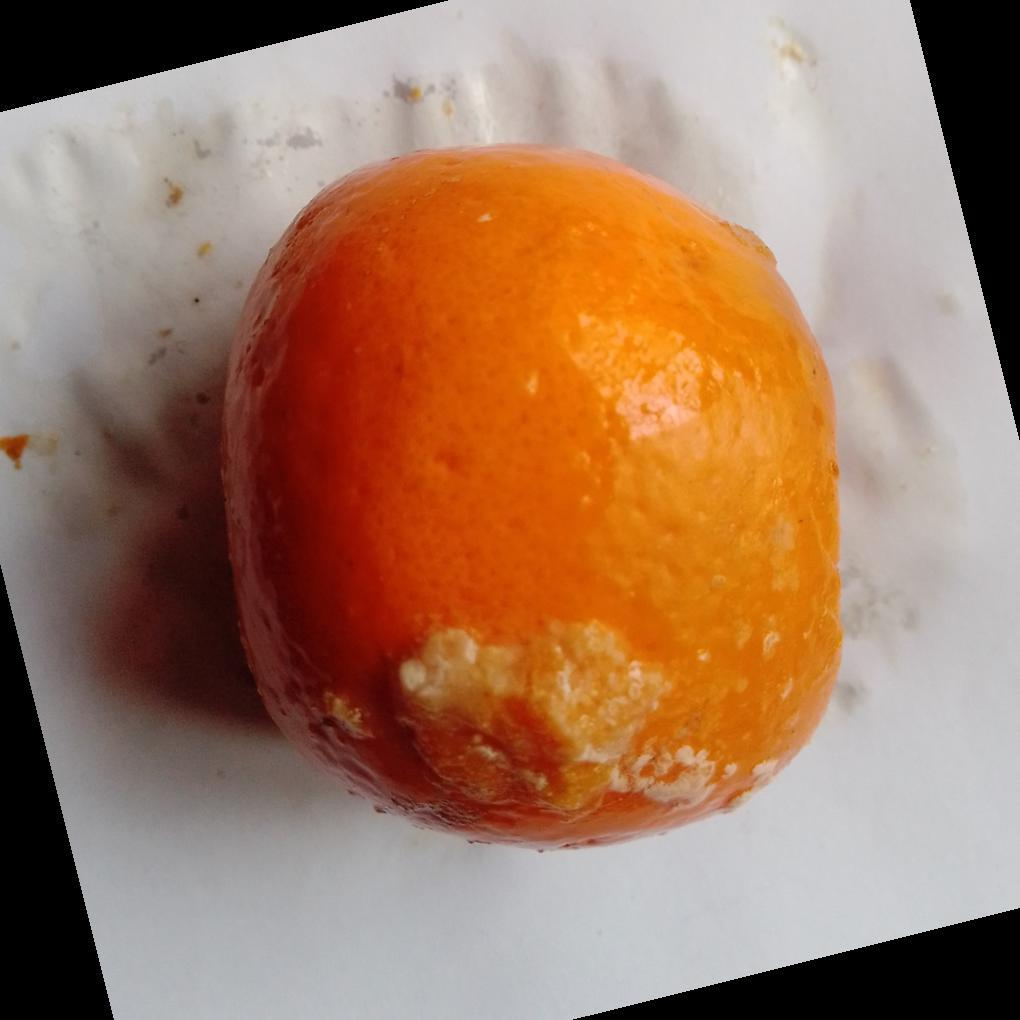FreshOrange: (214, 145, 845, 854)
